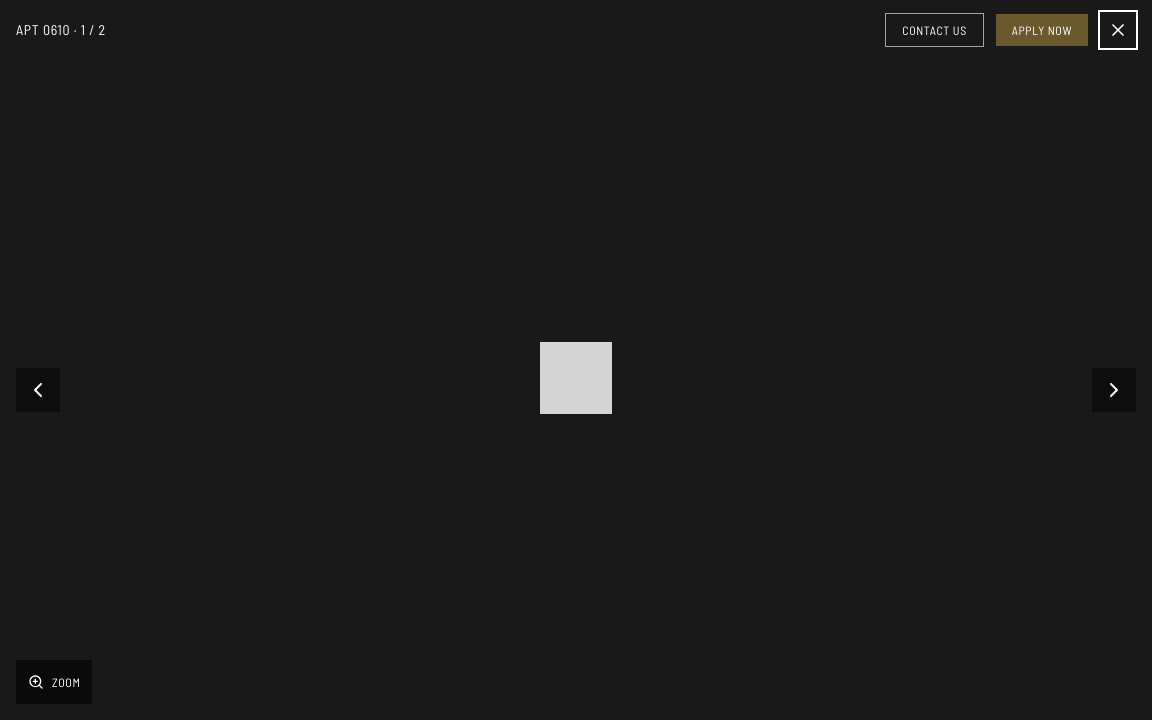
Test: UnitGalleryLightbox › zooms with the Zoom button and resets to fit with the Fit button
This screenshot has width=1152, height=720.
Note: Zoom in: image scales up and the control flips to "Zoom out" / Fit.
Click the button with aria-label "Zoom in". click: point(54, 682)
box: [16, 660, 92, 704]
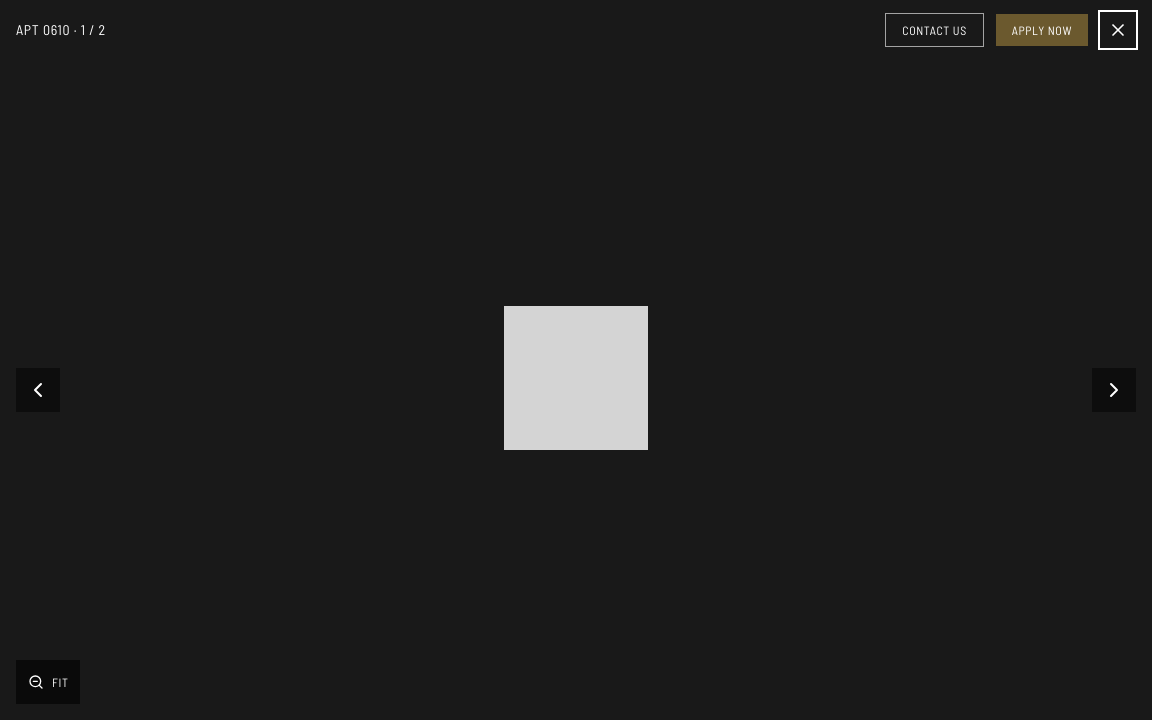
expect the button with aria-label "Zoom out" reads "Fit": met
Note: Fit: scale returns to 1 and the control flips back to "Zoom in".
Click the button with aria-label "Zoom out". click: point(48, 682)
box: [16, 660, 80, 704]
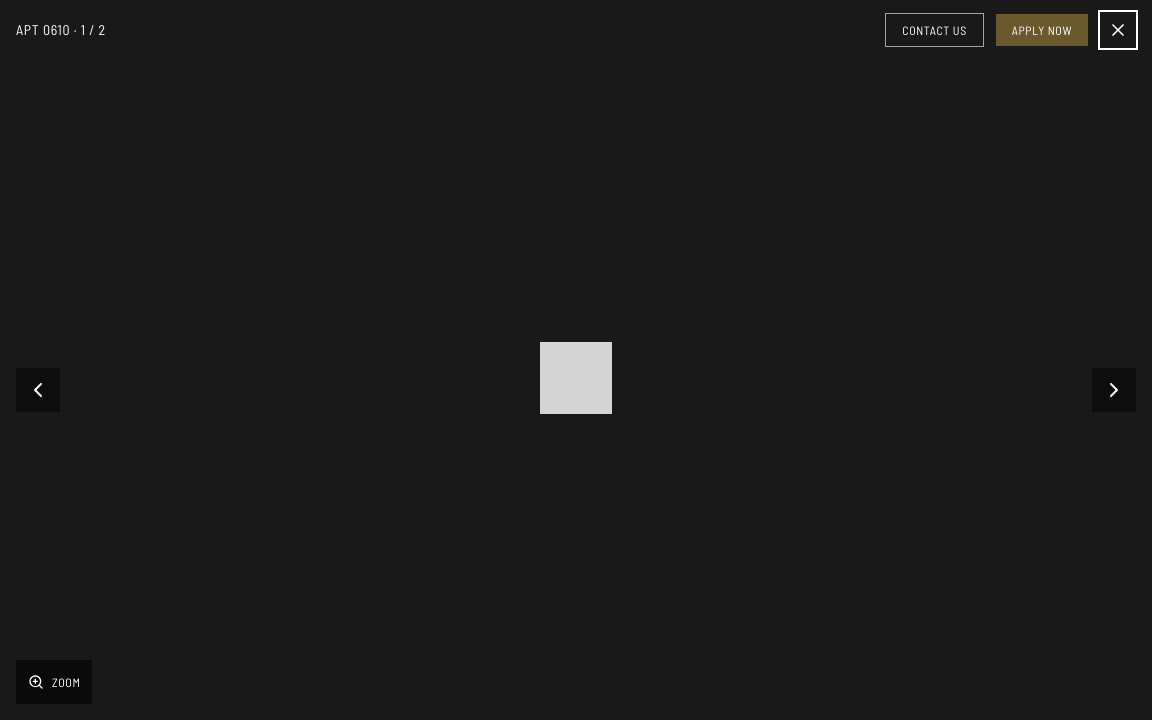
expect the button with aria-label "Zoom in" reads "Zoom": met, box [16, 660, 92, 704]
